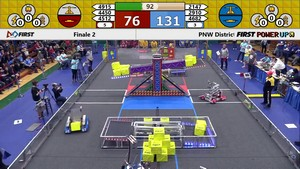cube: (150, 140, 162, 153), (151, 128, 165, 138), (194, 119, 208, 129), (143, 149, 154, 160), (121, 63, 130, 76), (70, 121, 80, 132), (185, 60, 196, 69), (111, 60, 121, 69), (193, 128, 205, 135), (185, 54, 195, 61), (114, 68, 122, 76)
